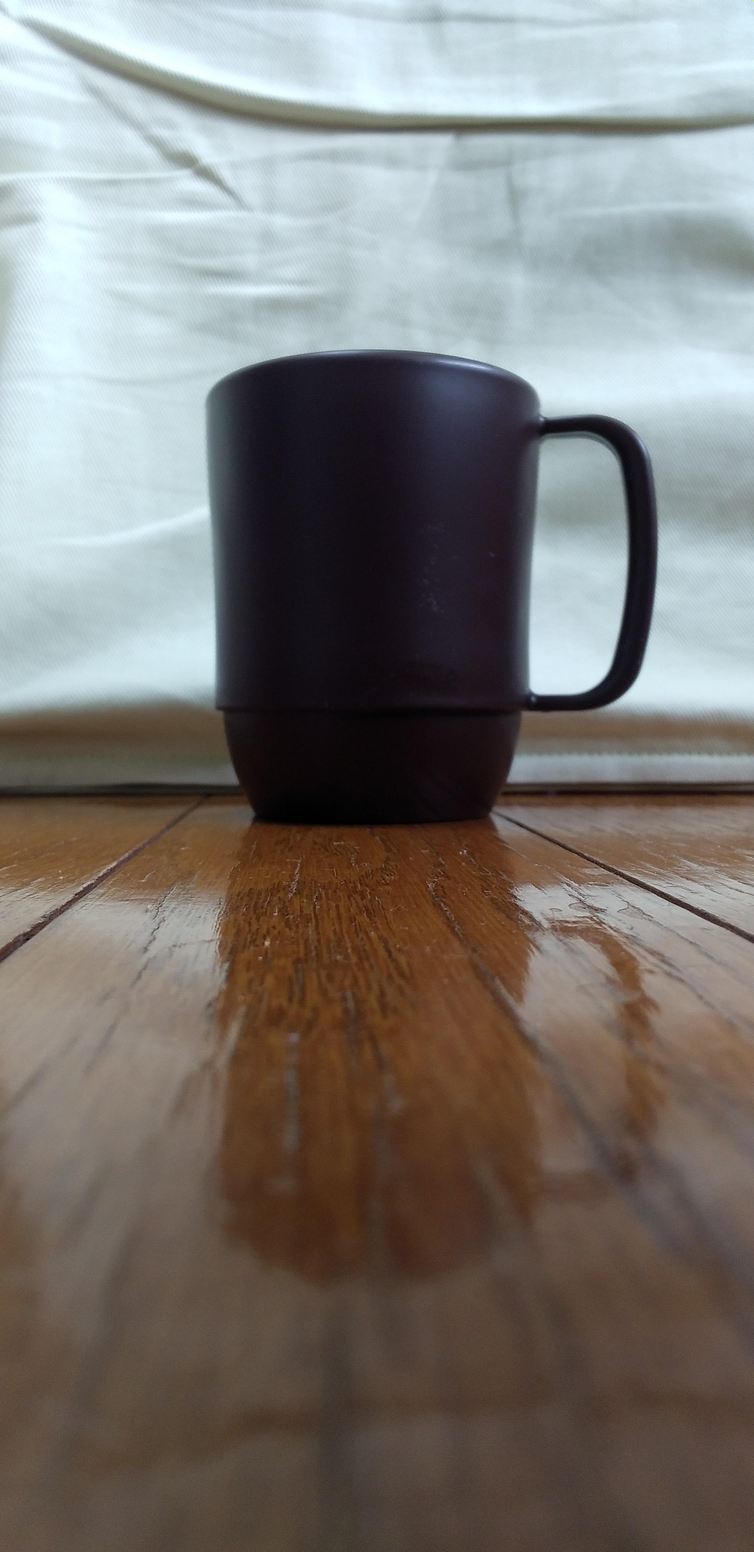mug-real100-3d100: (207, 351, 657, 823)
